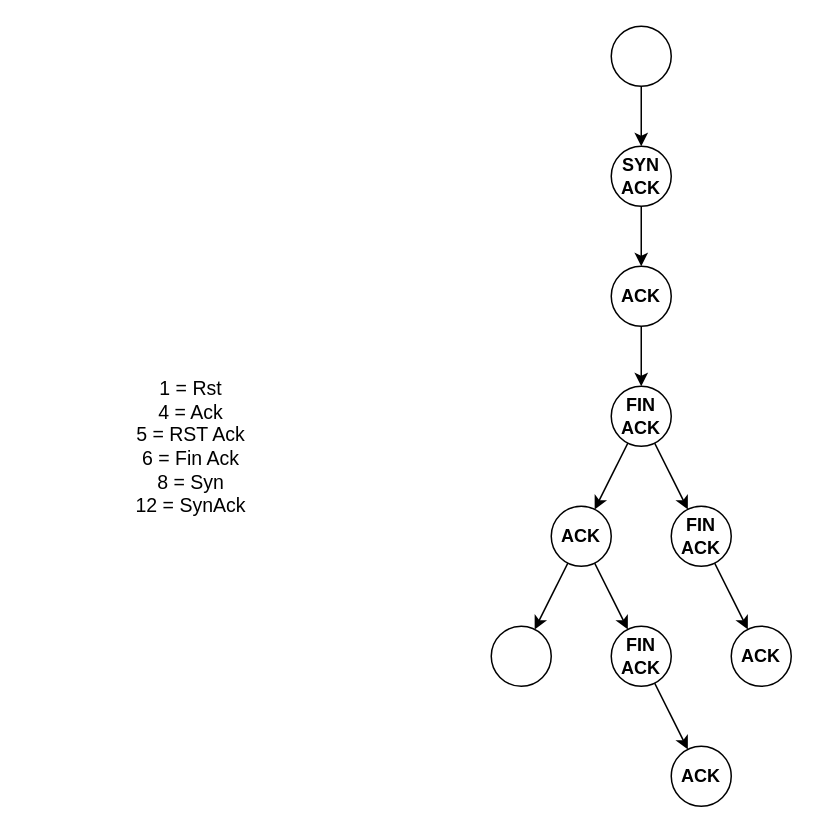
Image size: 818x833. Some labels were removed from this diagram. Each missing label, with the box of its shape:
RST ACK: (490, 625, 551, 686)
SYN: (610, 25, 671, 86)
